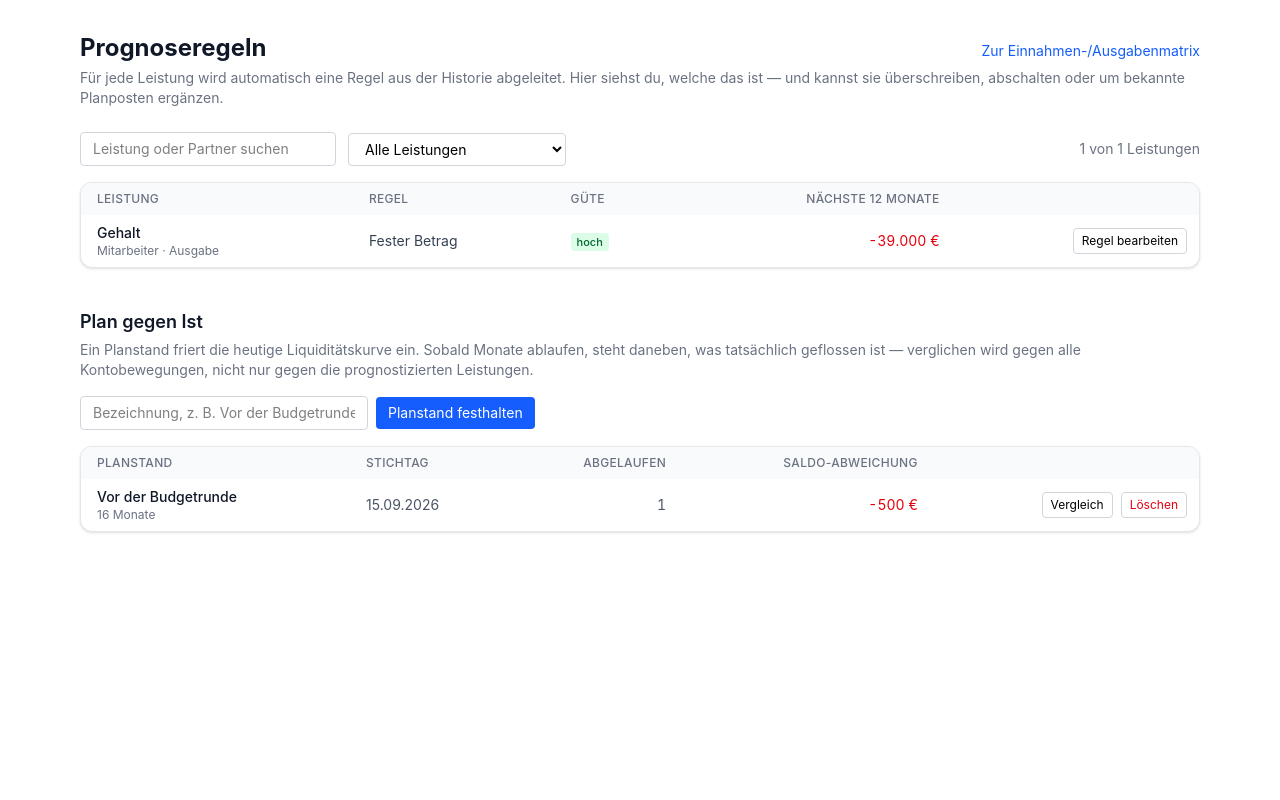
Test: ForecastPage – Plan gegen Ist › zeigt Plan und Ist je Monat
Click the button "Vergleich" at (1077, 505), box 1042,492 -> 1113,518
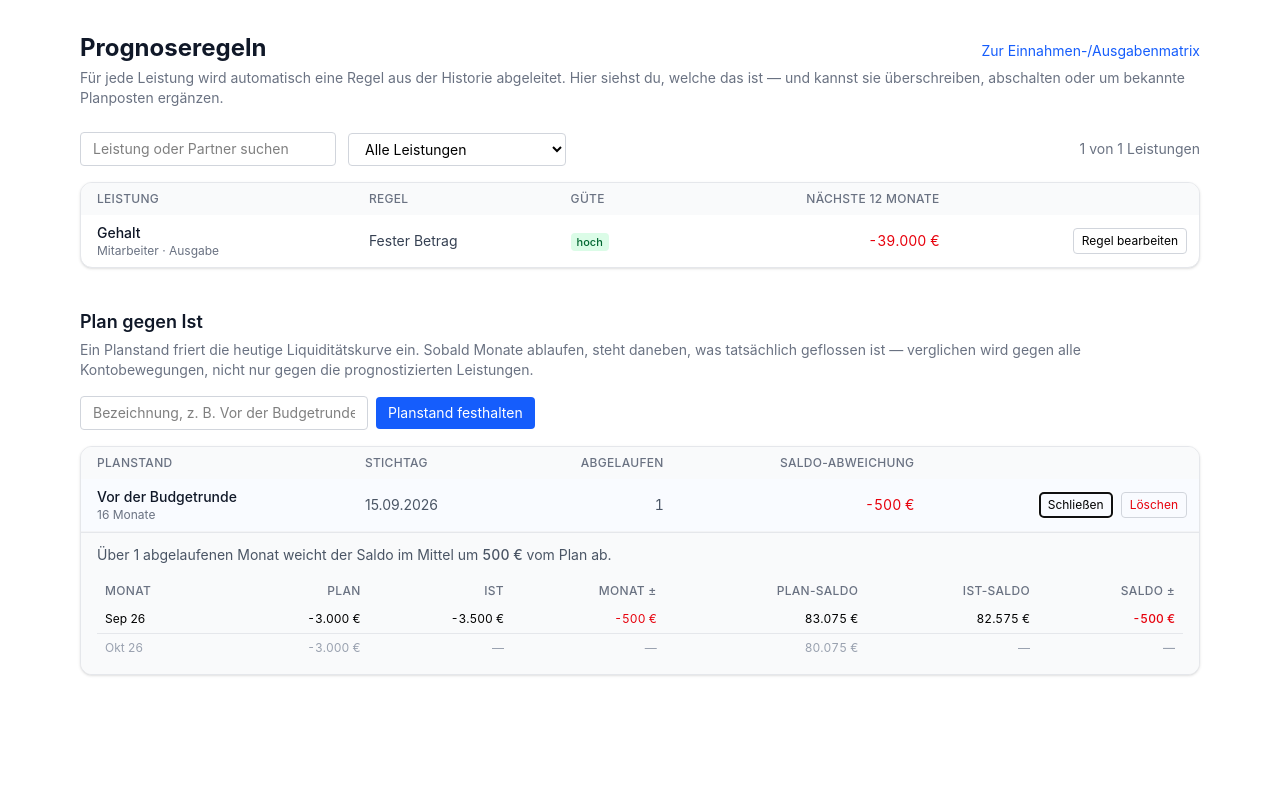
Expected: the text "im Mittel um" is shown, 279,546 -> 478,563
Expected: the text "-3.500 €" is shown, 369,605 -> 512,634
Expected: the 1st text "—" is shown, 369,634 -> 512,662
